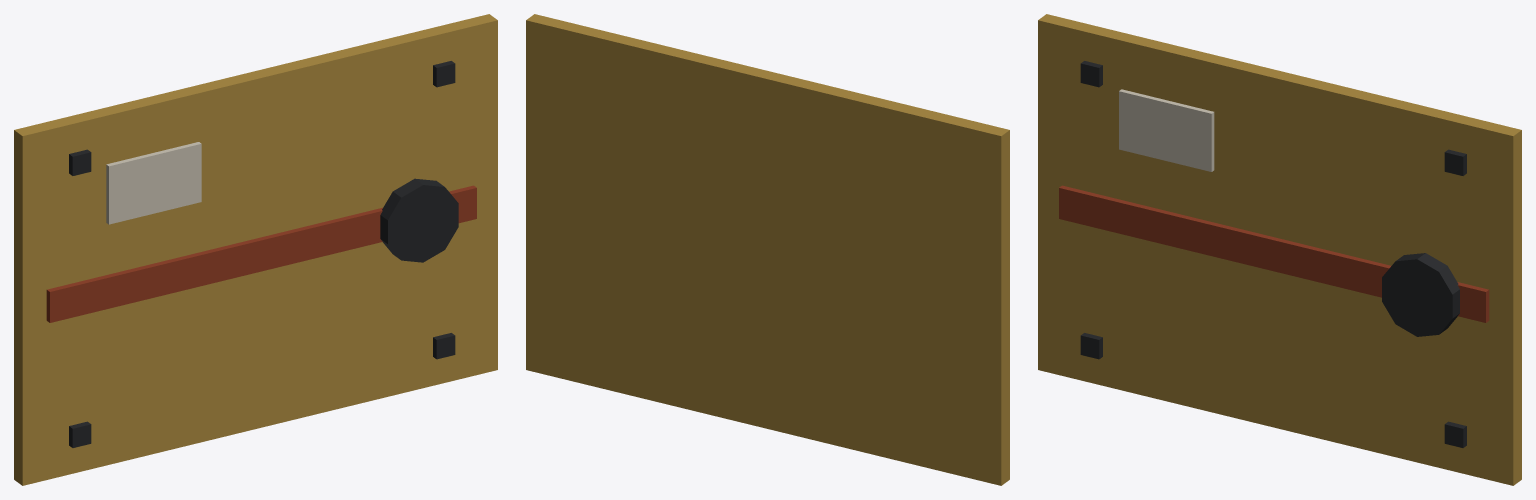
File: poi_req_locker_door.glb
3 views of the same model, side by side, from view 1: azimuth 30°, elevation 25°; view 2: azimuth 150°, elevation 25°; view 3: azimuth 330°, elevation 25° (orthographic).
Visible parts, largest first — view 1: ReqLockerDoor; view 2: ReqLockerDoor; view 3: ReqLockerDoor.
Part boxes in pixels (box(x1,y1,x2,y2)): ReqLockerDoor: box(14, 14, 497, 485); ReqLockerDoor: box(526, 14, 1009, 485); ReqLockerDoor: box(1038, 14, 1521, 485).
Bounding box in the file's own units: 2.56 × 1.8 × 0.18.
